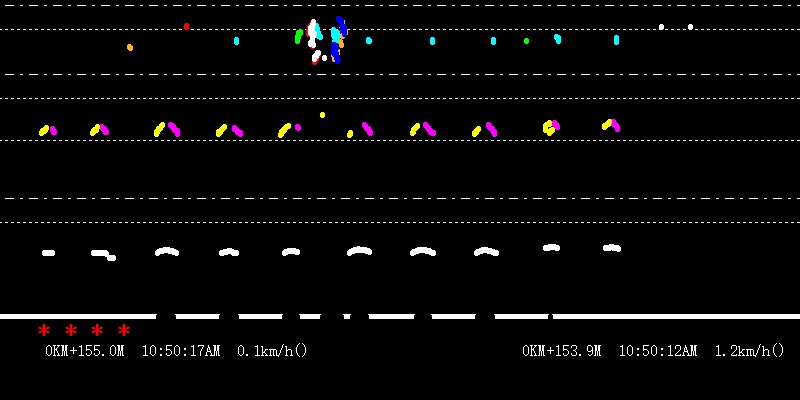J: (304, 4, 346, 64)
face_down: (552, 20, 566, 46), (612, 25, 623, 46)
star: (89, 323, 107, 338), (62, 322, 78, 337), (116, 321, 130, 338), (36, 321, 50, 336)
y_p: (140, 114, 504, 263)
